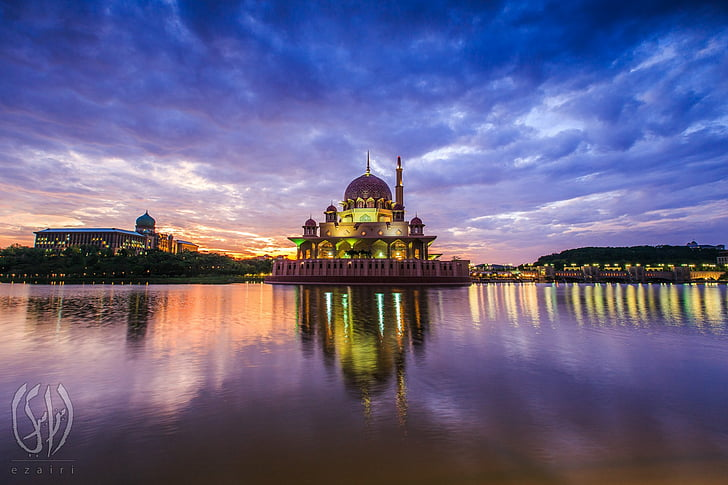Mosque: (297, 145, 432, 274)
